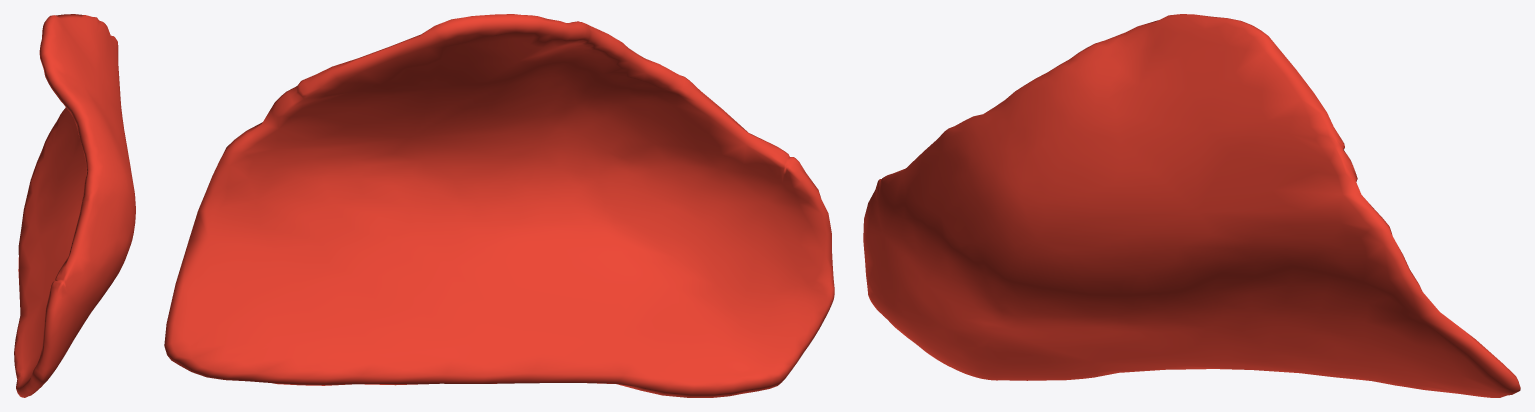
The model's file is Pectoralis_minor_coracoid_process_scapula_right.glb.
The picture shows the model from 3 angles, left to right: view 1: azimuth 30°, elevation 25°; view 2: azimuth 150°, elevation 25°; view 3: azimuth 270°, elevation 25°; orthographic projection. The views are drawn at different scales.
Parts seen in each view (by area): view 1: Pectoralis_minor_on_coracoid_process_of_scapula.r_Generated_; view 2: Pectoralis_minor_on_coracoid_process_of_scapula.r_Generated_; view 3: Pectoralis_minor_on_coracoid_process_of_scapula.r_Generated_.
Part boxes in pixels (box(x1,y1,x2,y2)): Pectoralis_minor_on_coracoid_process_of_scapula.r_Generated_: box(14, 14, 135, 397); Pectoralis_minor_on_coracoid_process_of_scapula.r_Generated_: box(164, 14, 834, 397); Pectoralis_minor_on_coracoid_process_of_scapula.r_Generated_: box(863, 14, 1520, 397).
Bounding box in the file's own units: 0.0105 × 0.0113 × 0.0153.
